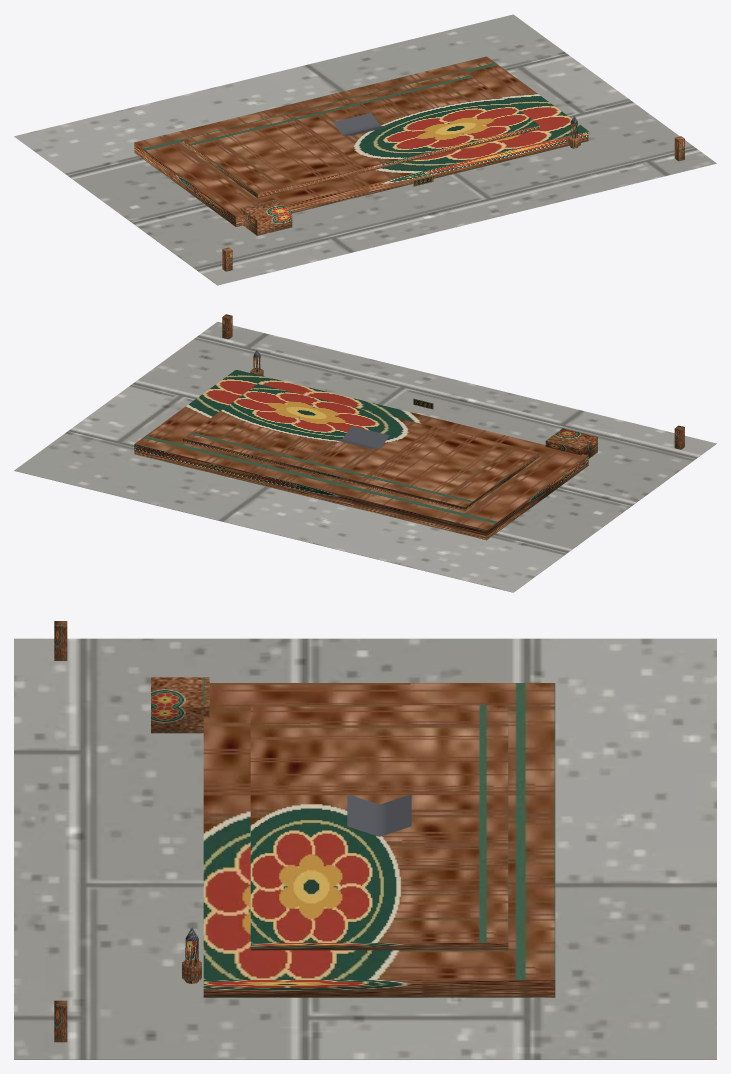
3 views of the same model, one above another, from view 1: azimuth 30°, elevation 25°; view 2: azimuth 150°, elevation 25°; view 3: azimuth 270°, elevation 25° (orthographic). The views are drawn at different scales.
Visible parts, largest first — view 1: 11710_01_05540_011_01_L2__base, 11710_01_05540_011_02_L2__body, 11710_01_05540_011_03_L2__roof, 11710_01_05540_011_06_L2__green; view 2: 11710_01_05540_011_01_L2__base, 11710_01_05540_011_02_L2__body, 11710_01_05540_011_03_L2__roof, 11710_01_05540_011_06_L2__green; view 3: 11710_01_05540_011_01_L2__base, 11710_01_05540_011_02_L2__body, 11710_01_05540_011_03_L2__roof, 11710_01_05540_011_06_L2__green.
Boxes of the visible parts, x1,y1,x2,y2 form: 11710_01_05540_011_01_L2__base: (14,14,716,285); 11710_01_05540_011_02_L2__body: (134,56,588,235); 11710_01_05540_011_03_L2__roof: (333,113,577,135); 11710_01_05540_011_06_L2__green: (222,136,684,271); 11710_01_05540_011_01_L2__base: (14,321,716,592); 11710_01_05540_011_02_L2__body: (134,356,597,540); 11710_01_05540_011_03_L2__roof: (253,349,389,448); 11710_01_05540_011_06_L2__green: (222,314,684,449); 11710_01_05540_011_01_L2__base: (14,638,716,1059); 11710_01_05540_011_02_L2__body: (151,677,555,997); 11710_01_05540_011_03_L2__roof: (185,794,411,941); 11710_01_05540_011_06_L2__green: (54,621,67,1042).
Bounding box in the file's own units: 170 × 10.6 × 120.
Materials: 5 (5 with a texture image).
